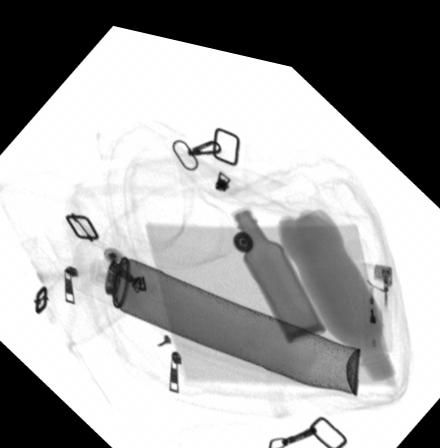Lighter: (359, 244, 393, 336)
Sprayer: (70, 234, 360, 377)
